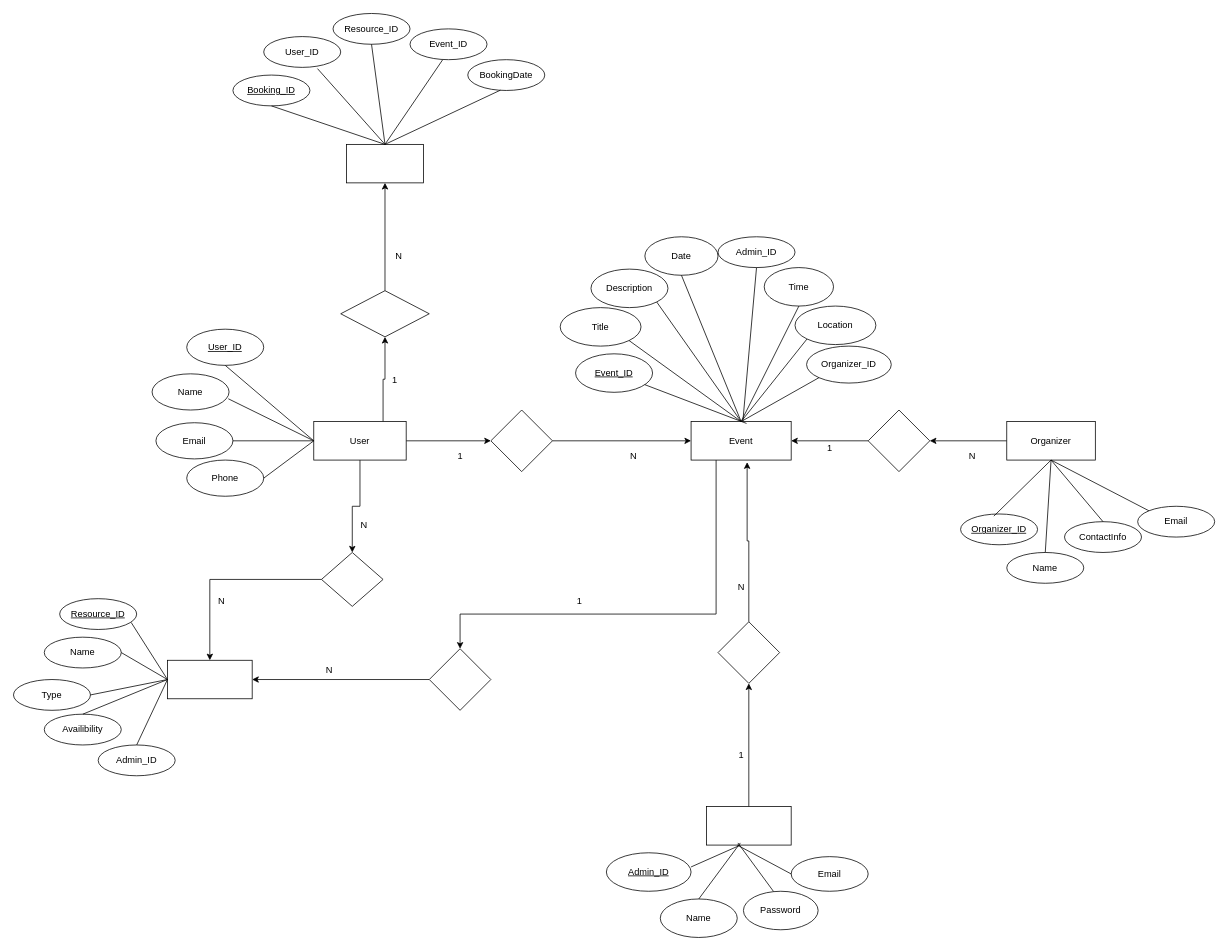
Image size: 1228x951. Some labels were removed from this diagram. The shapes that lost their labels are listed below. From the top down, each one's box as (x1, y1, x2, y2) in pixels, then its label:
(346, 144, 424, 183): Booking
(340, 290, 429, 337): Make
(490, 409, 552, 472): Create
(867, 409, 930, 472): Organize
(321, 552, 383, 606): Book
(717, 621, 780, 683): Manages
(167, 660, 252, 699): Resource
(429, 648, 491, 710): Have
(706, 806, 791, 845): Admin
